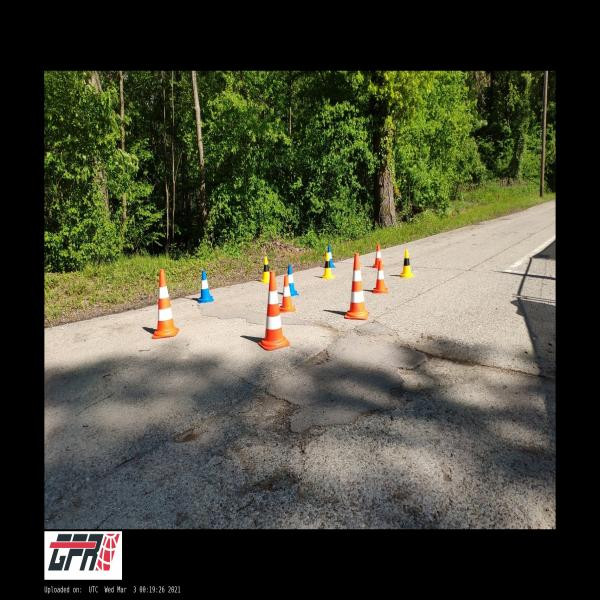blue_cone: (198, 270, 214, 303), (288, 265, 299, 296), (328, 245, 335, 268)
large_orange_cone: (258, 270, 290, 350), (152, 270, 179, 338), (344, 253, 368, 319)
orange_cone: (280, 275, 295, 312), (373, 261, 388, 293), (373, 244, 384, 269)
yellow_cone: (401, 250, 413, 278), (322, 253, 334, 279), (260, 256, 269, 283)
